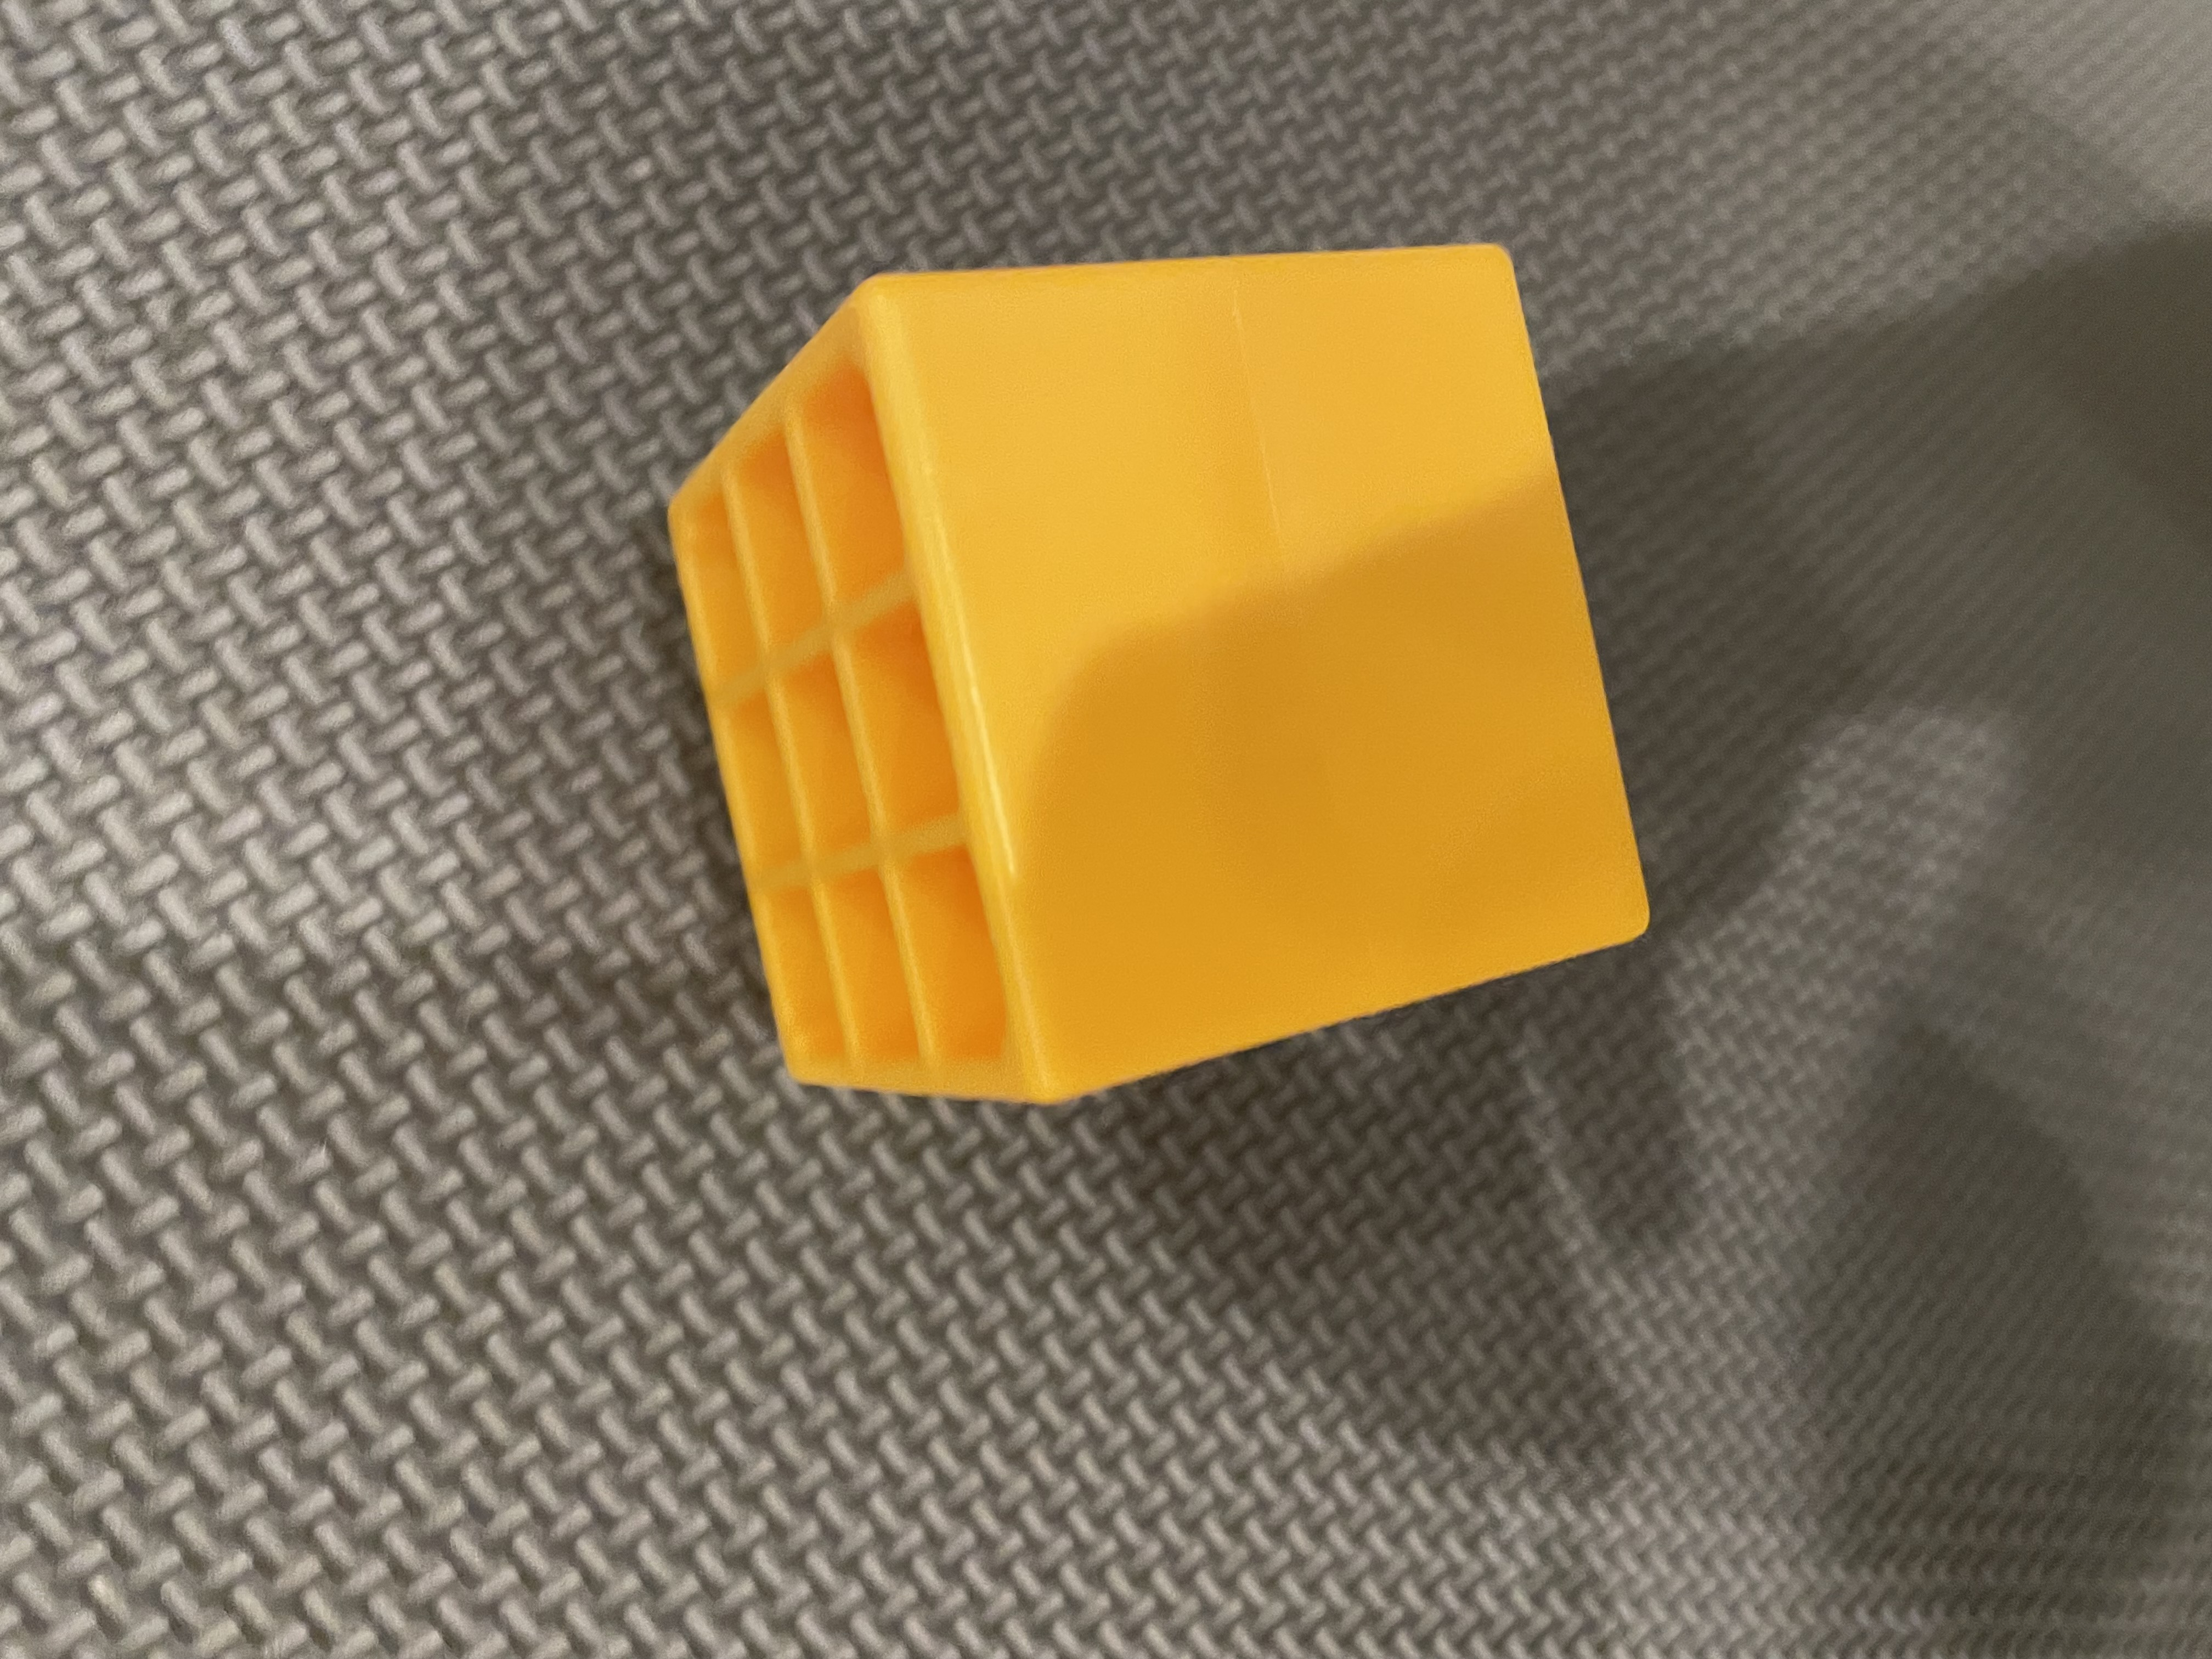cube: (578, 181, 1756, 1227)
